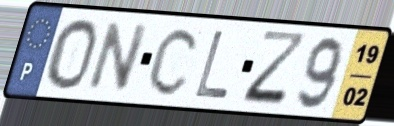9: (296, 34, 345, 112)
C: (145, 24, 203, 98)
L: (192, 27, 233, 101)
N: (83, 19, 153, 94)
O: (44, 16, 99, 92)
Z: (238, 28, 311, 110)
